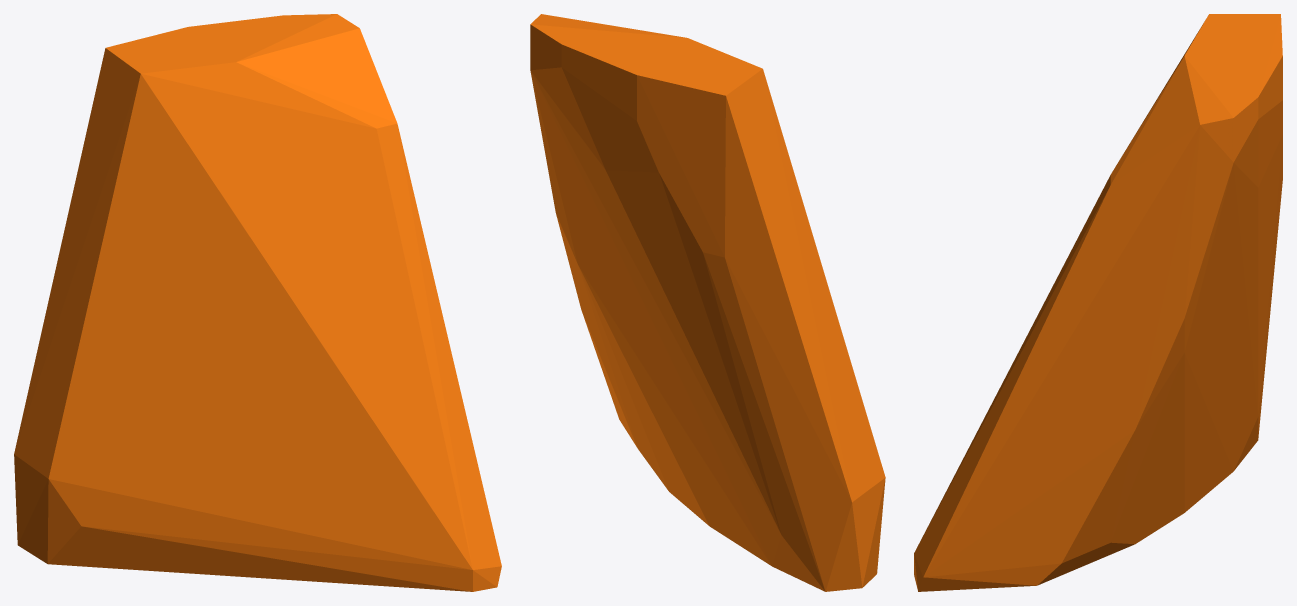
The model's file is mouth_cup001.obj.
3 renders of one model, left to right at view 1: azimuth 30°, elevation 25°; view 2: azimuth 150°, elevation 25°; view 3: azimuth 270°, elevation 25°, orthographic. The views are drawn at different scales.
Parts seen in each view (by area): view 1: mouth_cup001; view 2: mouth_cup001; view 3: mouth_cup001.
Boxes of the visible parts, x1=… form: mouth_cup001: x1=14, y1=14, x2=501, y2=591; mouth_cup001: x1=530, y1=14, x2=885, y2=591; mouth_cup001: x1=914, y1=14, x2=1282, y2=591.
Bounding box in the file's own units: 0.0947 × 0.1271 × 0.0899.
